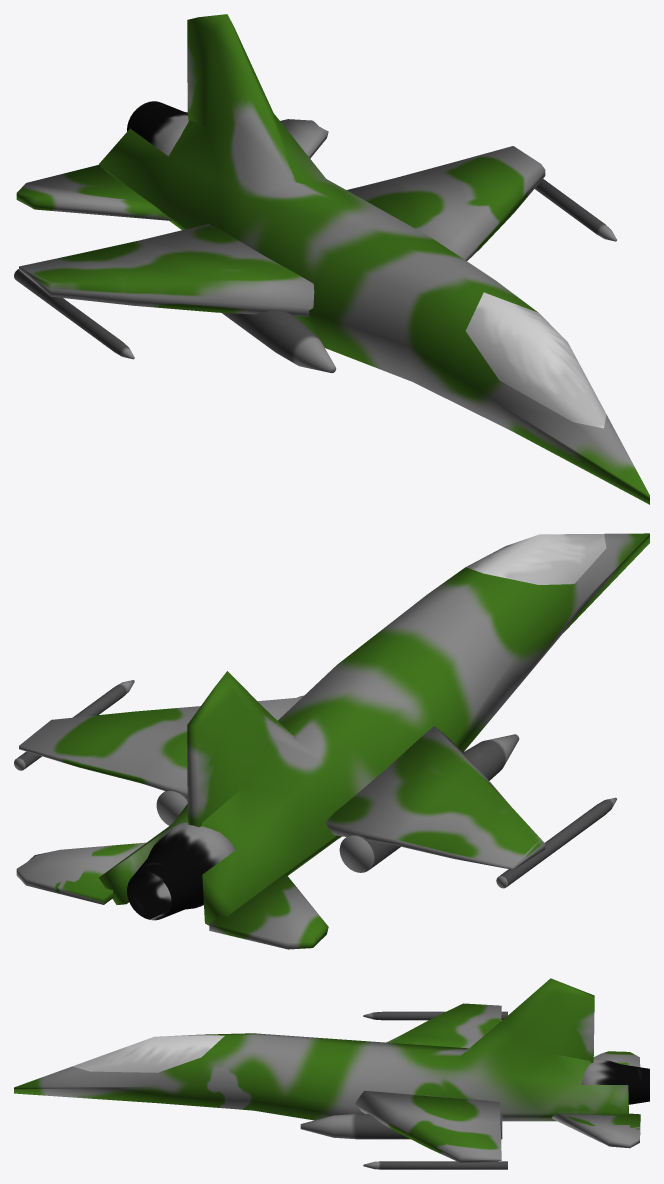
Rendered from JET.fbx.
3 views of the same model, one above another, from view 1: azimuth 30°, elevation 25°; view 2: azimuth 150°, elevation 25°; view 3: azimuth 270°, elevation 25° (orthographic). The views are drawn at different scales.
Parts seen in each view (by area): view 1: Cylinder.001; view 2: Cylinder.001; view 3: Cylinder.001.
Part boxes in pixels (x1,y1,x2,y2): Cylinder.001: [14, 14, 649, 504]; Cylinder.001: [14, 533, 649, 949]; Cylinder.001: [14, 978, 649, 1169].
Size of the model in its own units: 750 by 321 by 1315.
